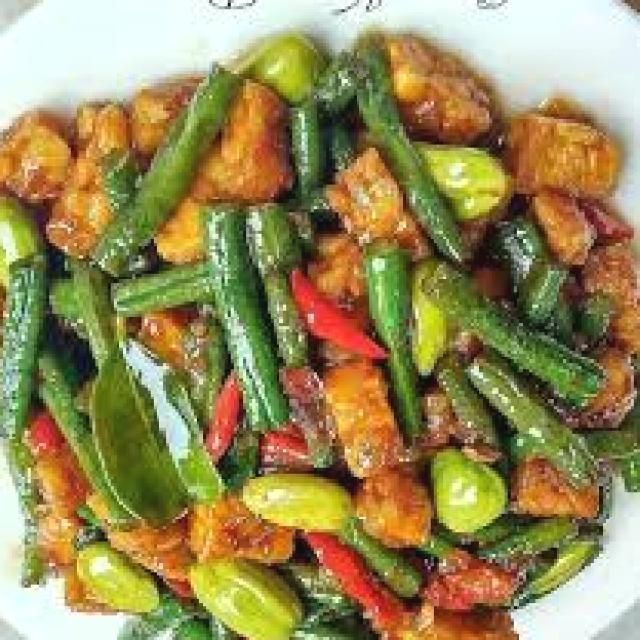kacang_panjang: (0, 52, 640, 640), (0, 247, 148, 536), (407, 263, 616, 426), (184, 196, 297, 434)
tahu: (313, 361, 437, 553), (0, 108, 136, 271), (520, 95, 628, 271), (394, 551, 526, 640)
